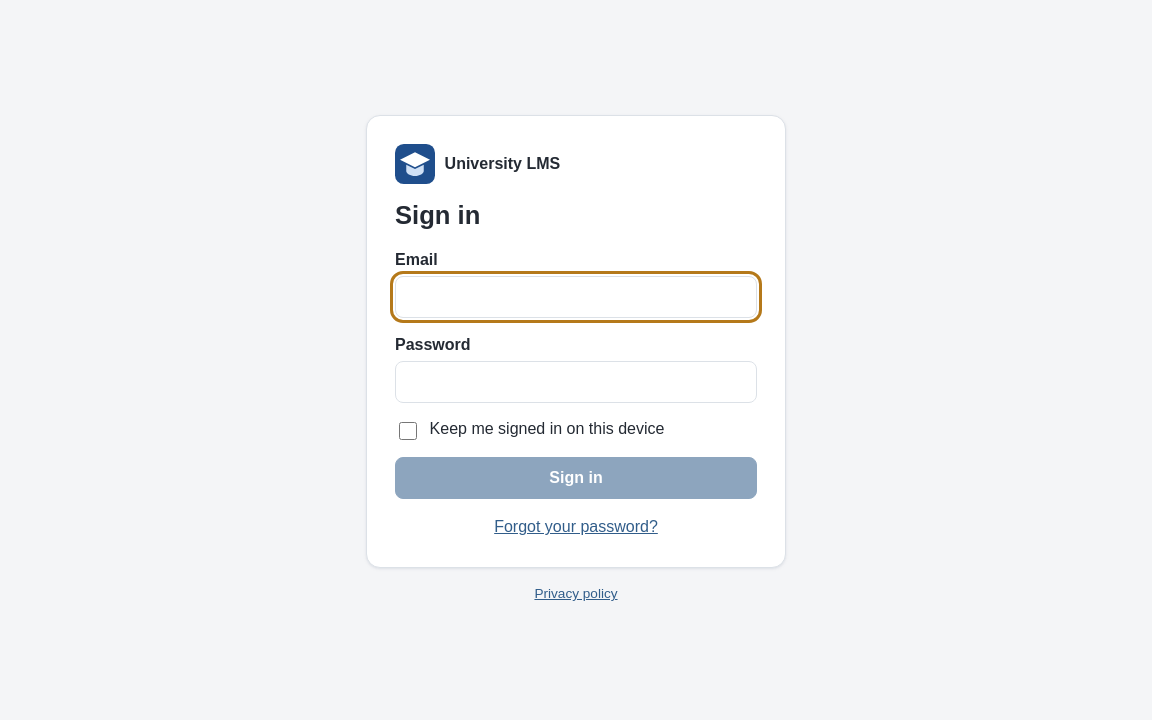
signing in › signs in, remembers the person only for this tab, and shows their dashboard
The image size is (1152, 720).
Type " ada@example.test " into the field labelled "Email" at (576, 297), box x1=395 y1=276 x2=757 y2=318
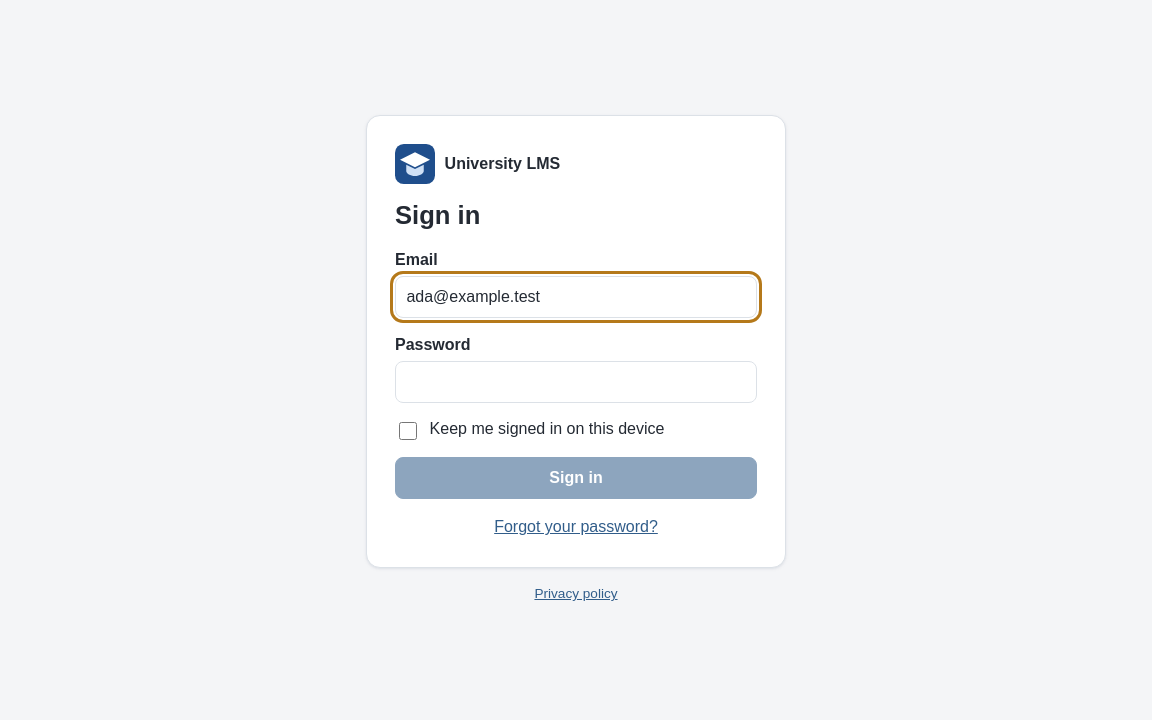
Type "a-long-enough-password" into the password field labelled "Password" at (576, 382), box x1=395 y1=361 x2=757 y2=403
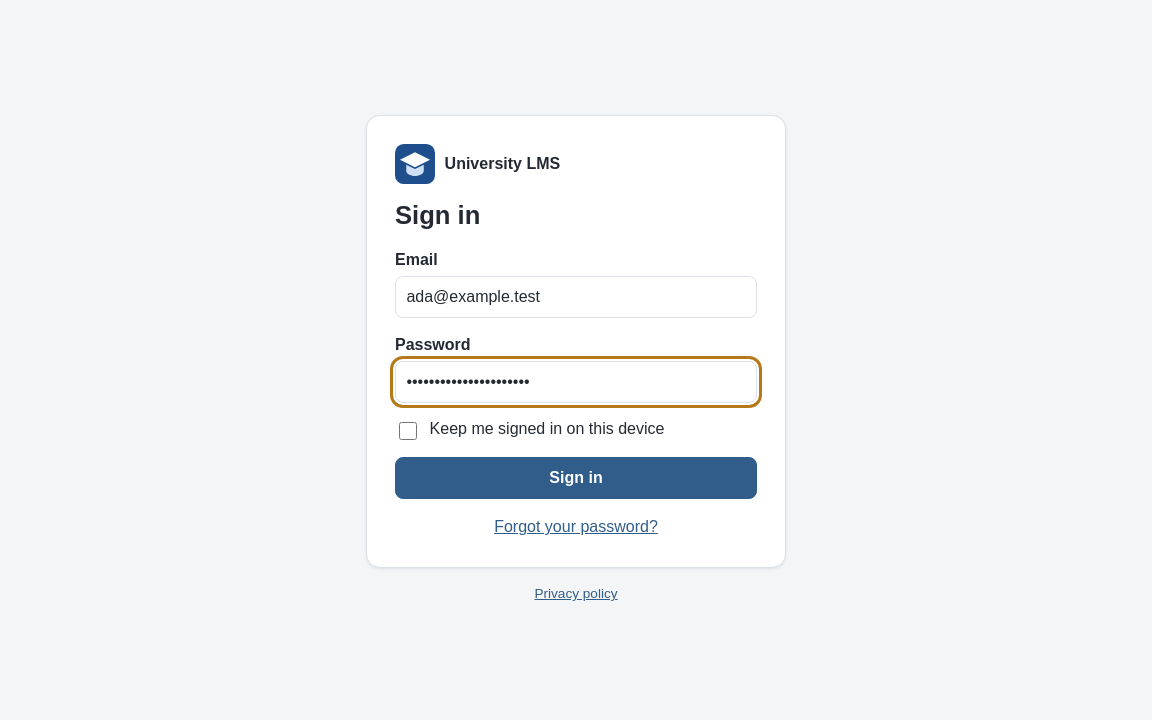
Click the button "Sign in" at (576, 478), box x1=395 y1=457 x2=757 y2=499
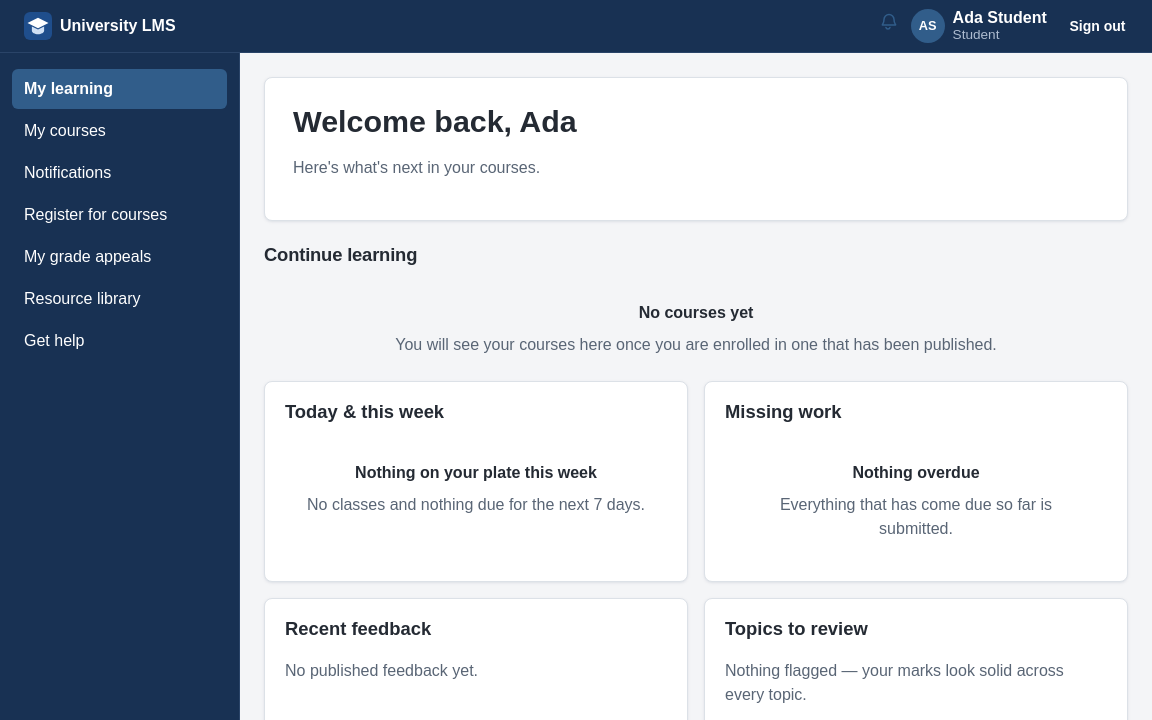
Expected: the heading "Welcome back, Ada" is shown, x1=293 y1=104 x2=577 y2=138
